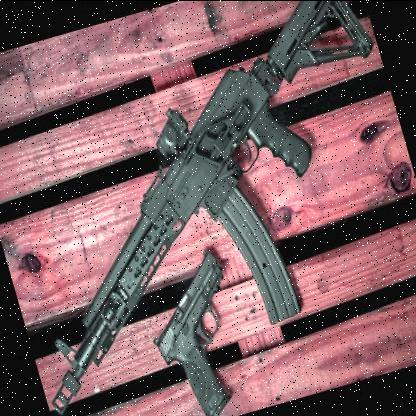rifle: (0, 0, 416, 416), (123, 233, 274, 416)
